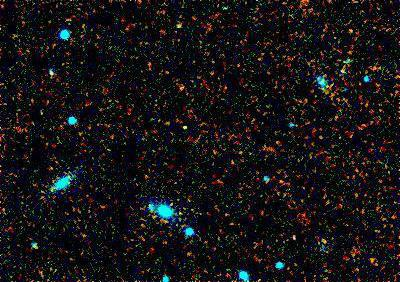star: (171, 118, 201, 148)
